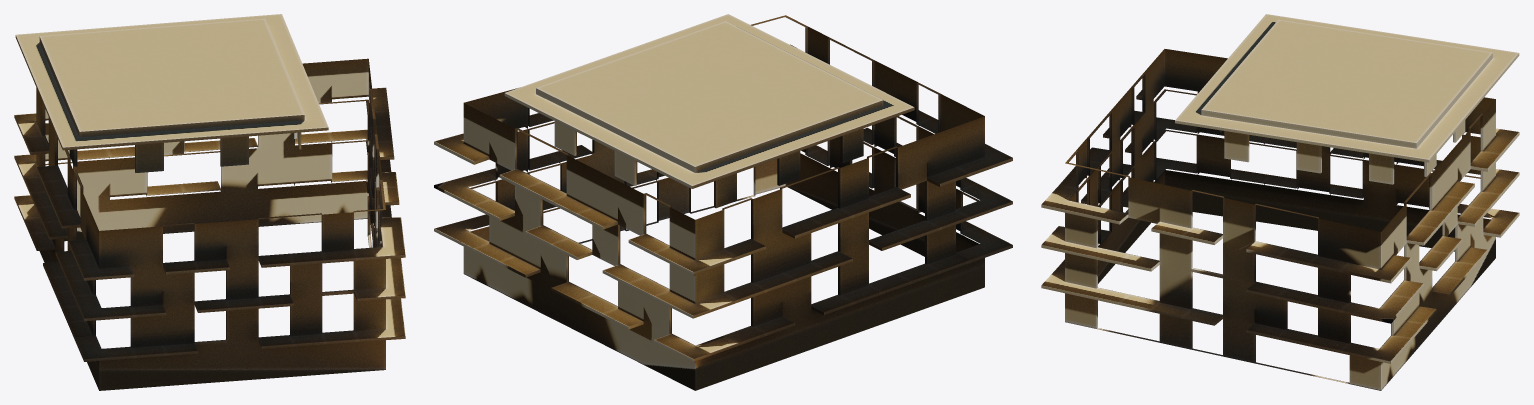
Rendered from Building_02.fbx.
3 views of the same model, side by side, from view 1: azimuth 30°, elevation 25°; view 2: azimuth 150°, elevation 25°; view 3: azimuth 270°, elevation 25° (orthographic). The views are drawn at different scales.
Visible parts, largest first — view 1: Building_02; view 2: Building_02; view 3: Building_02.
Boxes of the visible parts, left/top/right/bottom form: Building_02: left=14, top=14, right=405, bottom=390; Building_02: left=434, top=14, right=1012, bottom=390; Building_02: left=1041, top=14, right=1519, bottom=390.
Size of the model in its own units: 32.58 by 15.34 by 32.24.
1 material, 1 textured.
